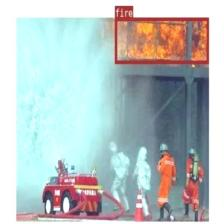fire: (114, 17, 209, 63)
